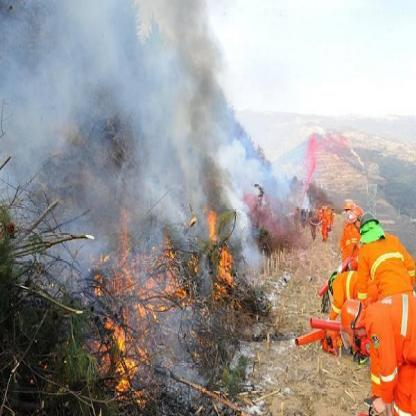fire: (93, 209, 187, 316), (101, 320, 145, 400), (213, 245, 234, 299), (206, 200, 216, 244)
other: (292, 197, 414, 410), (298, 127, 326, 191), (306, 196, 331, 238)
smoke: (93, 52, 176, 122), (165, 13, 217, 96), (187, 108, 223, 199), (230, 149, 254, 192), (238, 218, 257, 260)
